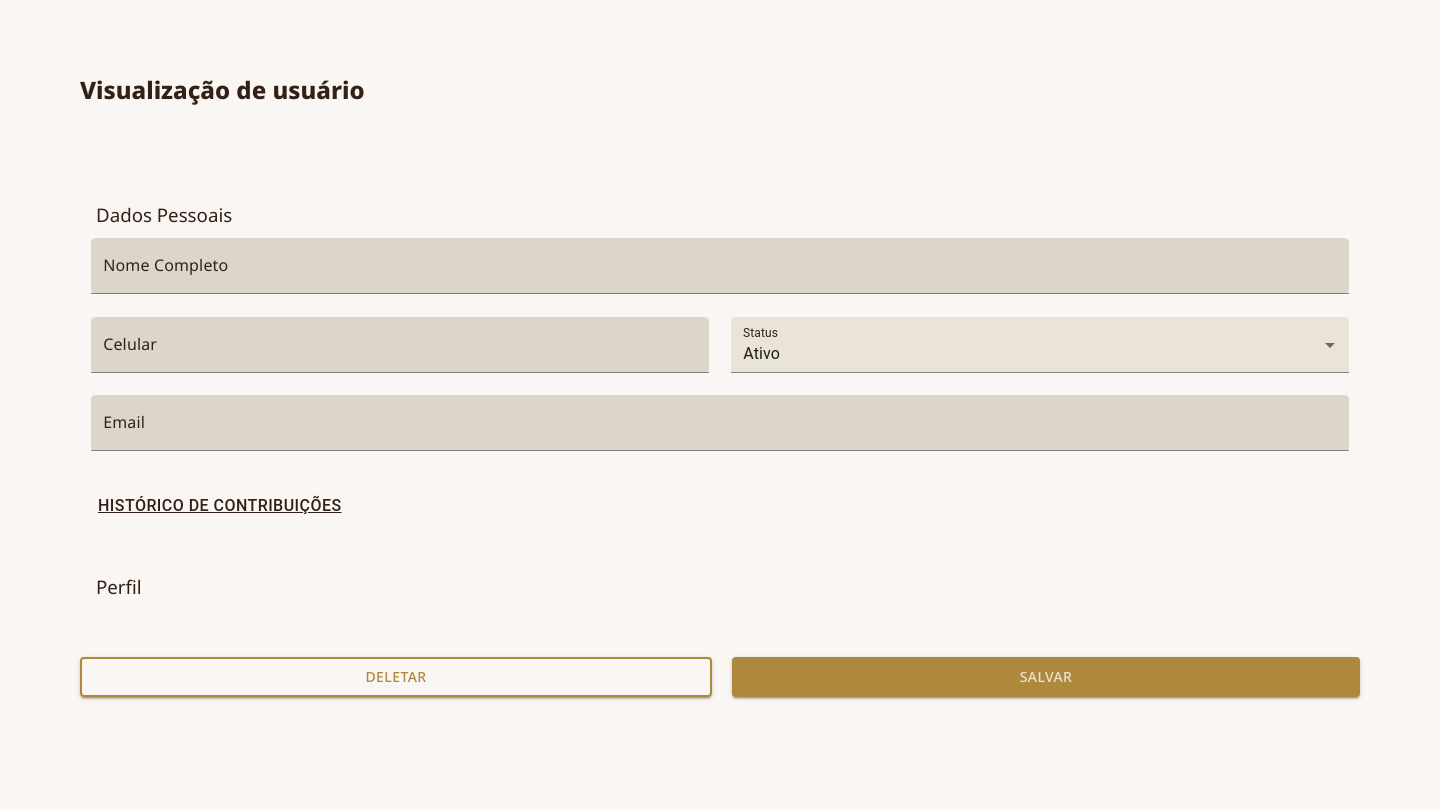
Test case: UserUpdatePage › validates phone number input
Type "123" into the field labelled "Celular". click: (400, 345)
box: x1=91 y1=317 x2=709 y2=373
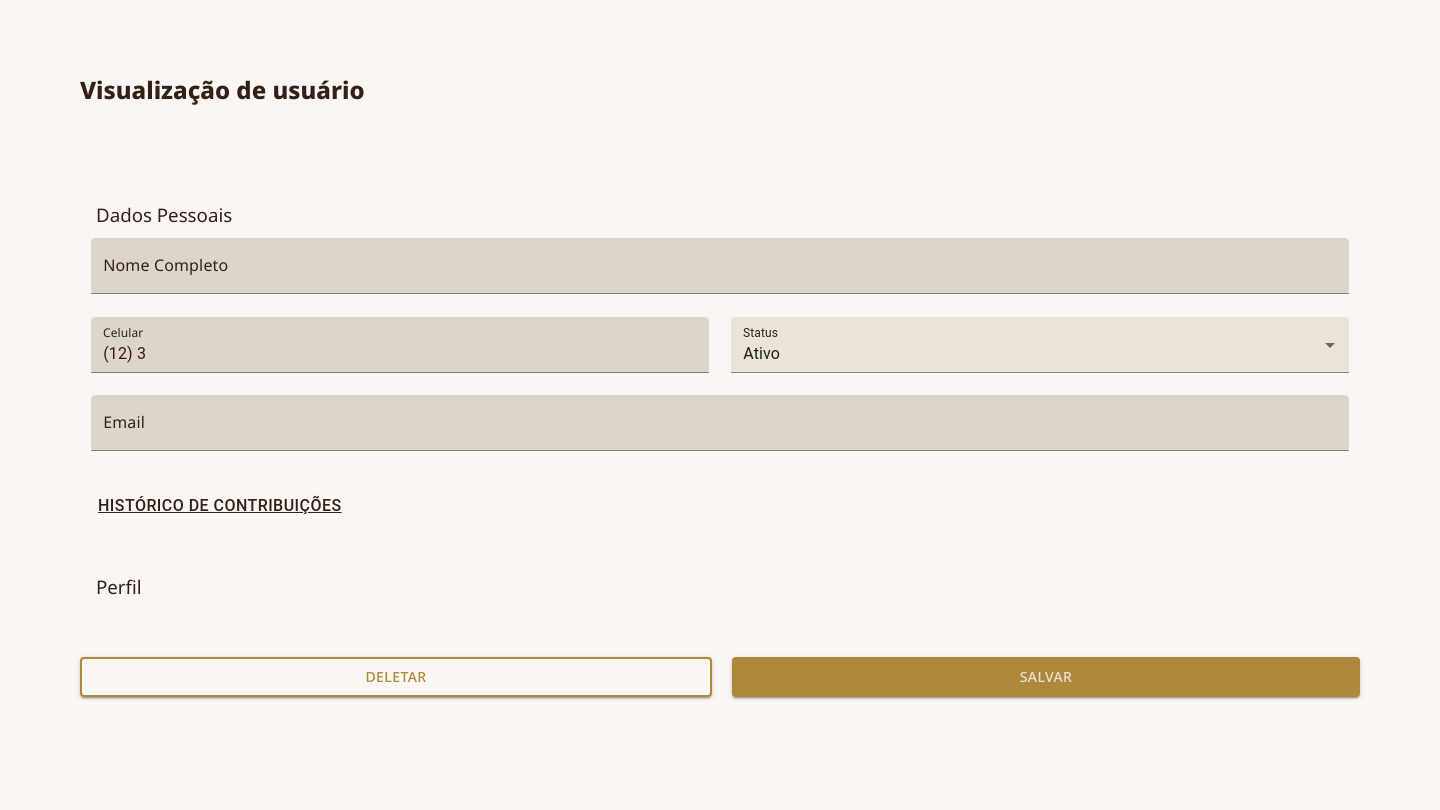
Click the button "Salvar". click: (1046, 677)
box: x1=732 y1=657 x2=1360 y2=697
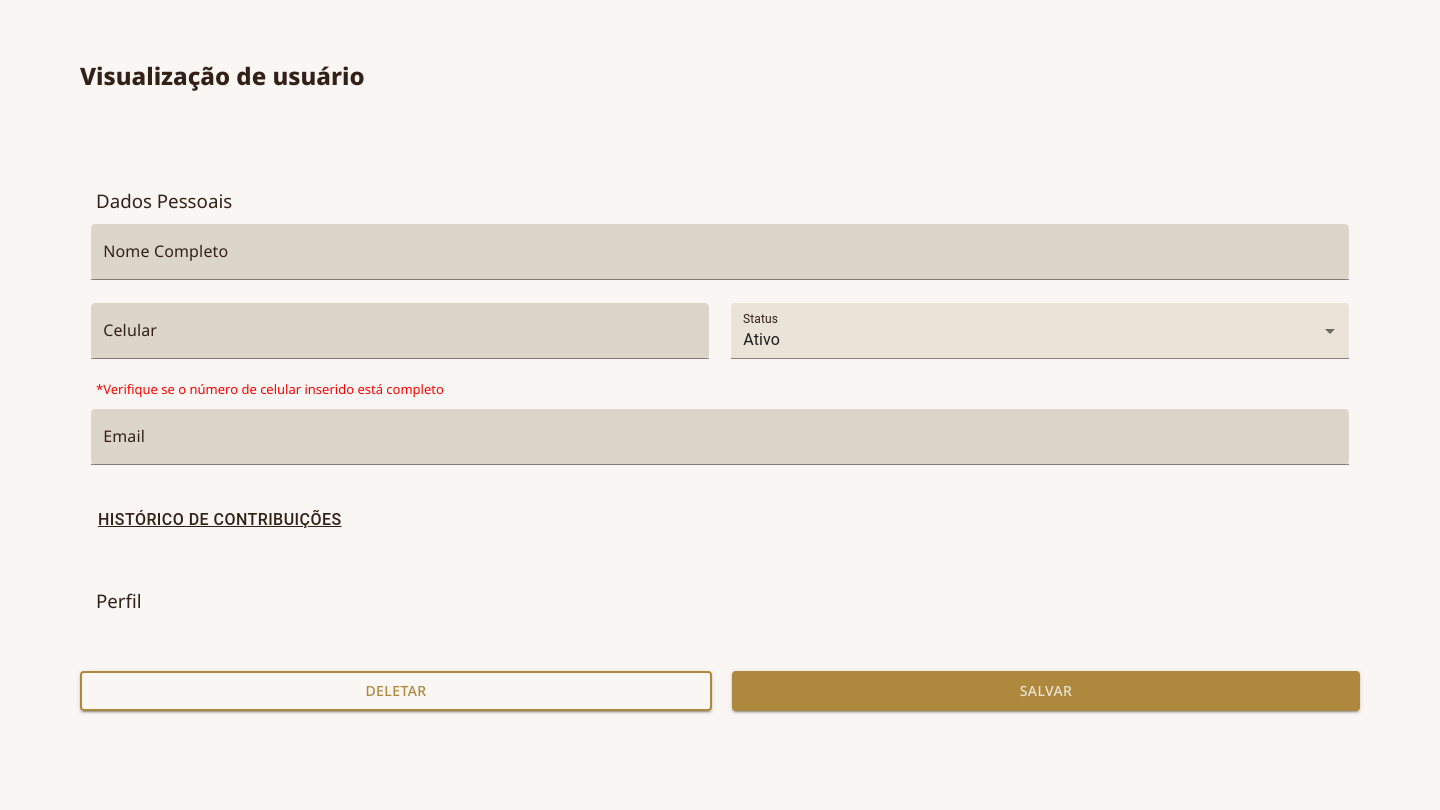
Result: the text "*Verifique se o número de celular inserido está completo" is shown at x1=96 y1=380 x2=444 y2=398
